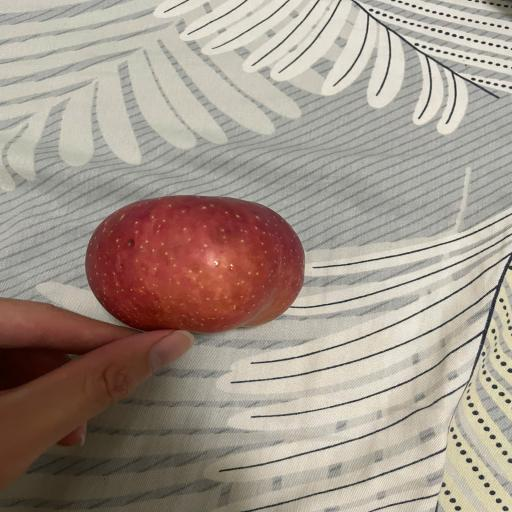apple: (85, 195, 305, 333)
